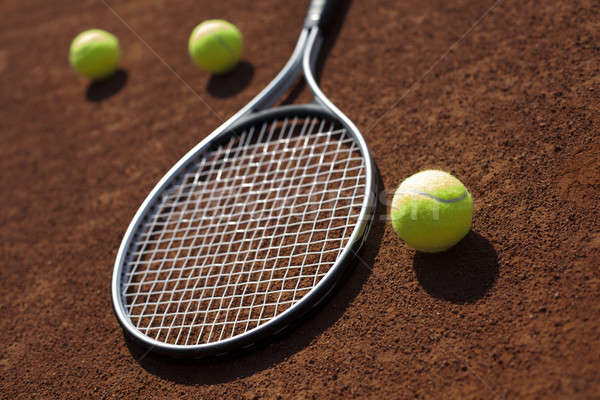tennis_ball: (390, 171, 475, 255), (187, 19, 243, 72), (67, 29, 120, 75)
